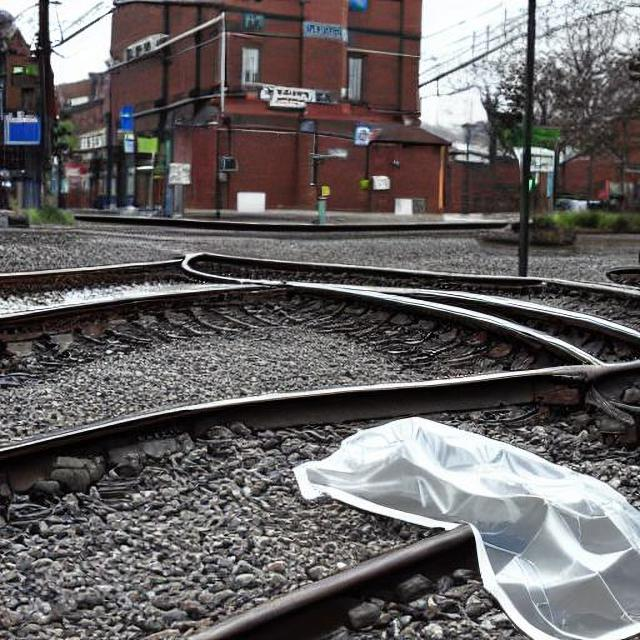plastic bag: (294, 398, 638, 639)
